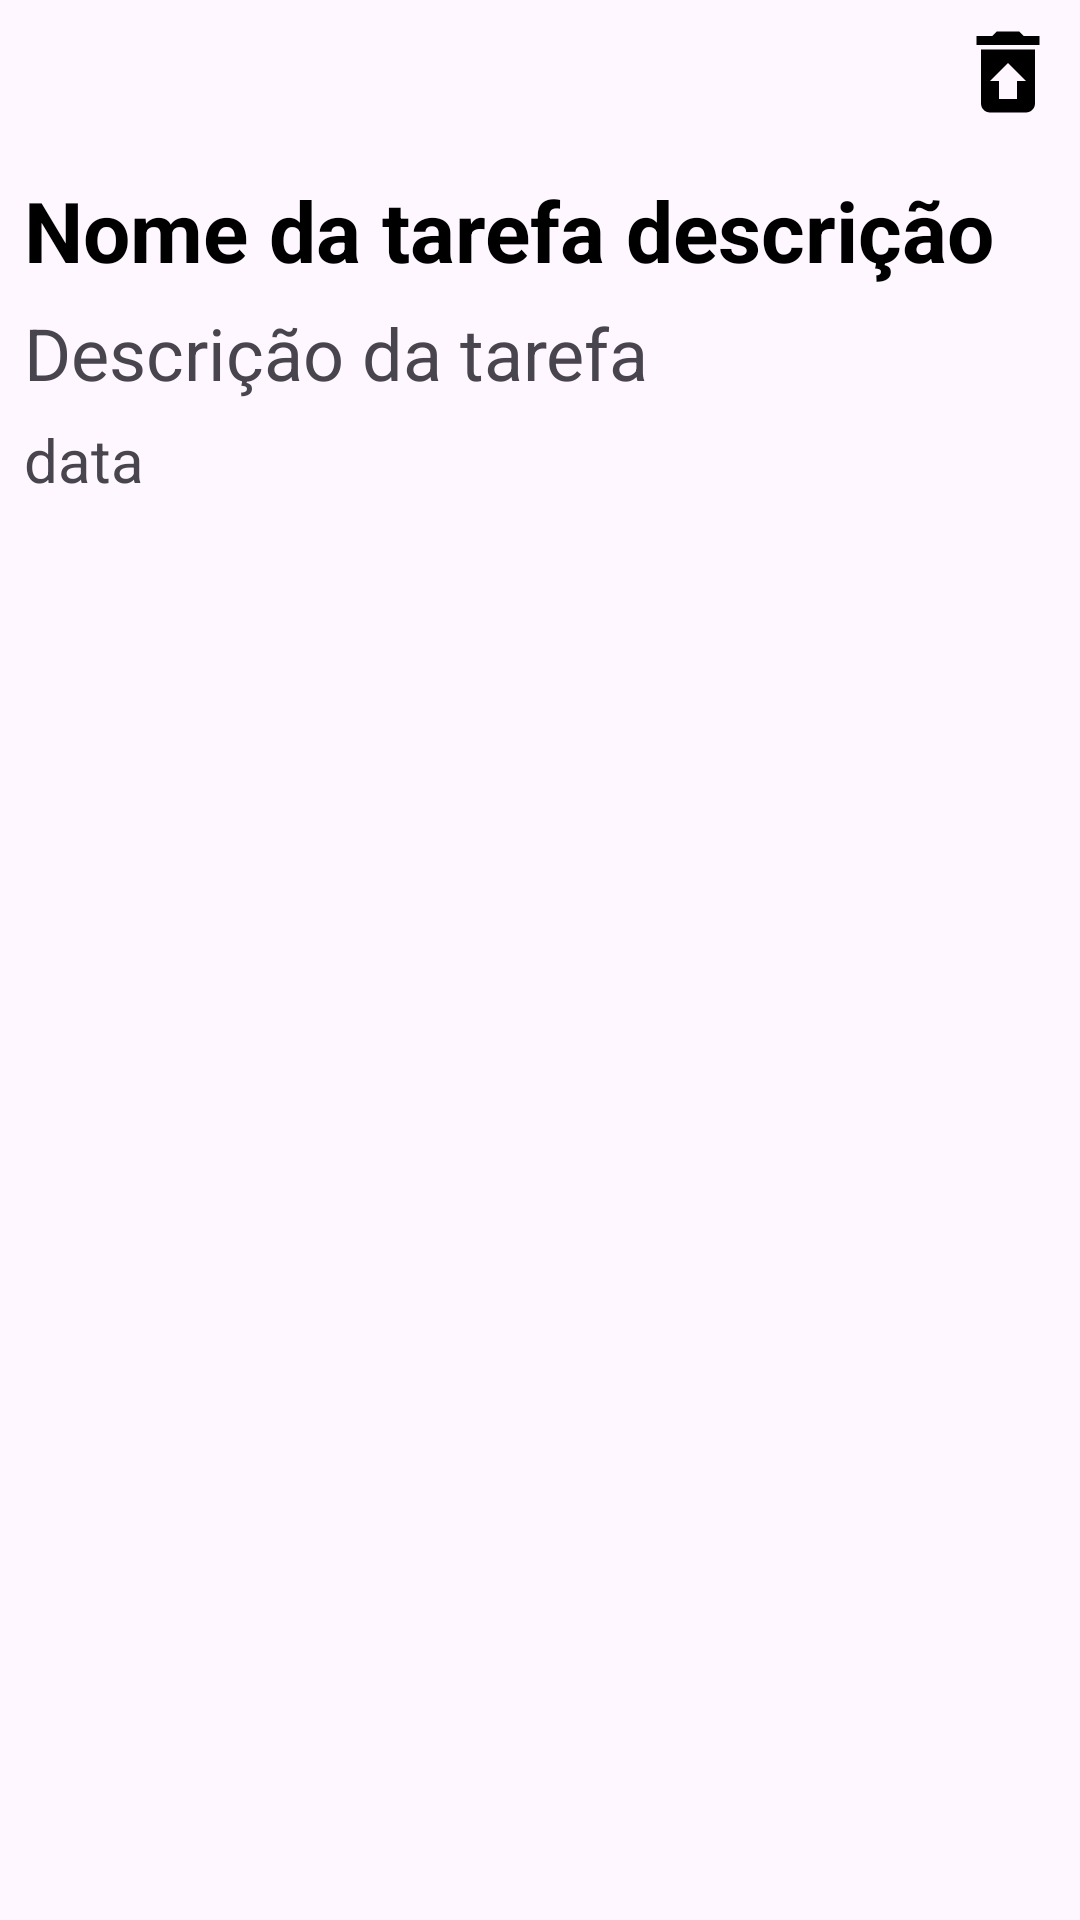

Icons on this 1080px x 1920px Android screen, each with its box as (x1, y1, x2, y2):
lixeira: (976, 31, 1040, 113)
